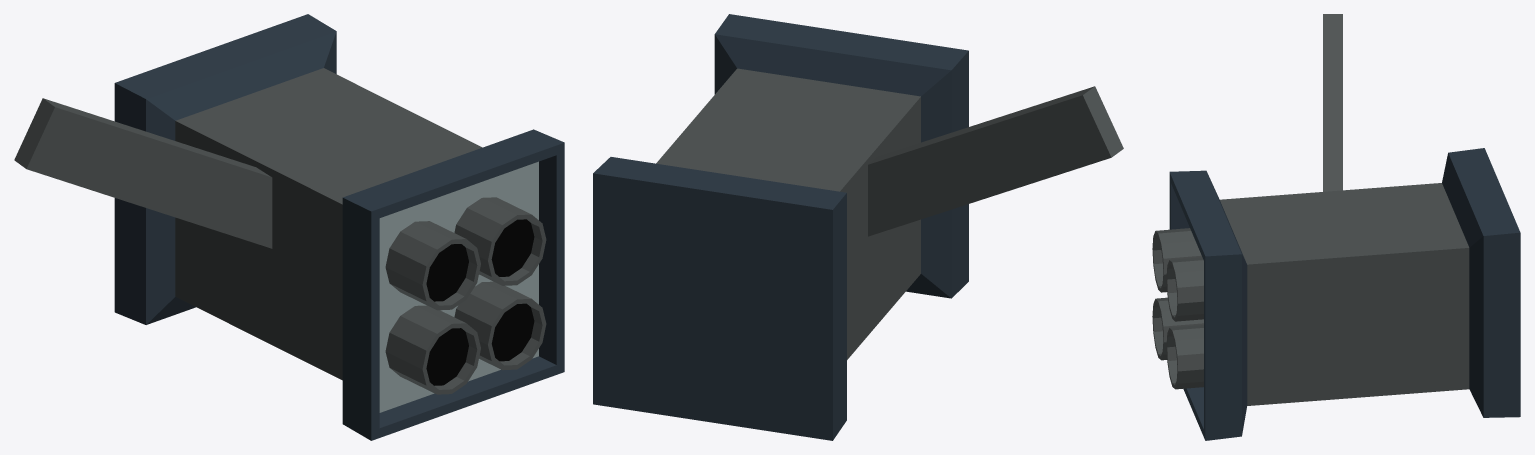
The model's file is DropshipEngineRight.fbx.
3 renders of one model, left to right at view 1: azimuth 30°, elevation 25°; view 2: azimuth 150°, elevation 25°; view 3: azimuth 270°, elevation 25°, orthographic. The views are drawn at different scales.
Parts seen in each view (by area): view 1: RightDropshipEngine; view 2: RightDropshipEngine; view 3: RightDropshipEngine.
Part boxes in pixels (<box>): RightDropshipEngine: <box>14,14,564,440</box>; RightDropshipEngine: <box>593,14,1123,440</box>; RightDropshipEngine: <box>1152,14,1520,440</box>.
Size of the model in its own units: 1746 by 1140 by 1488.
